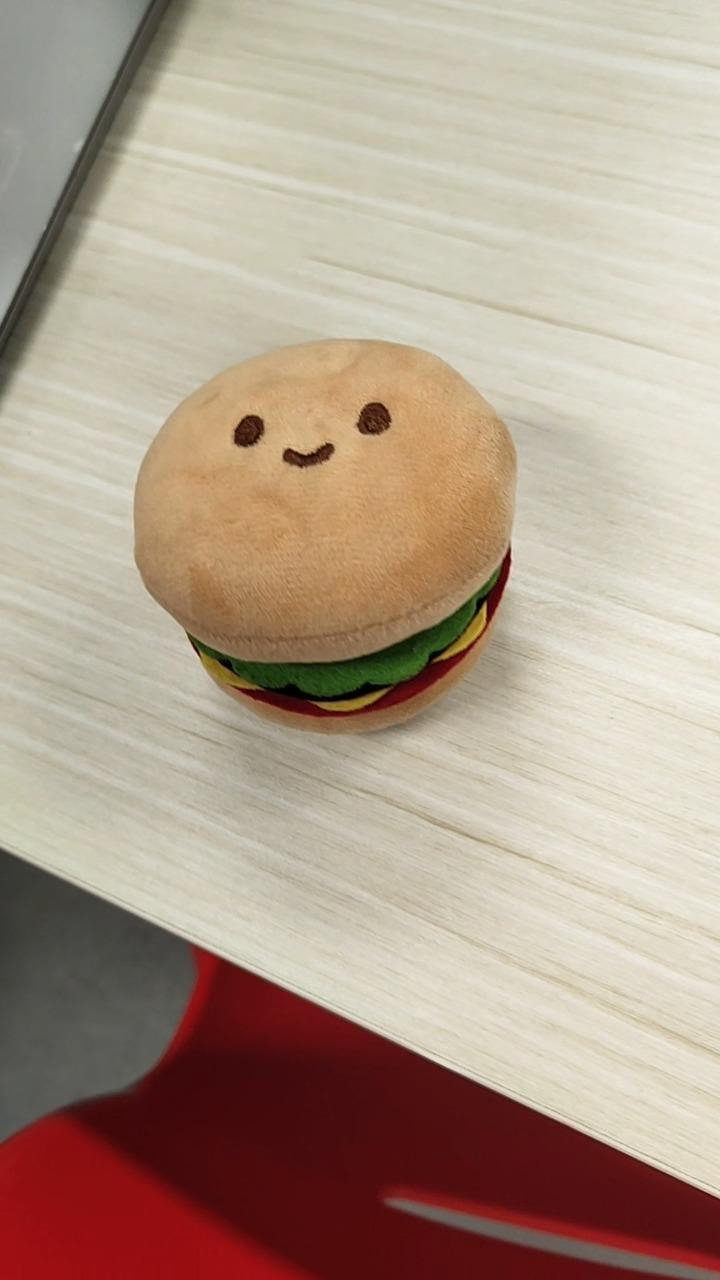hamburger: (131, 335, 518, 736)
